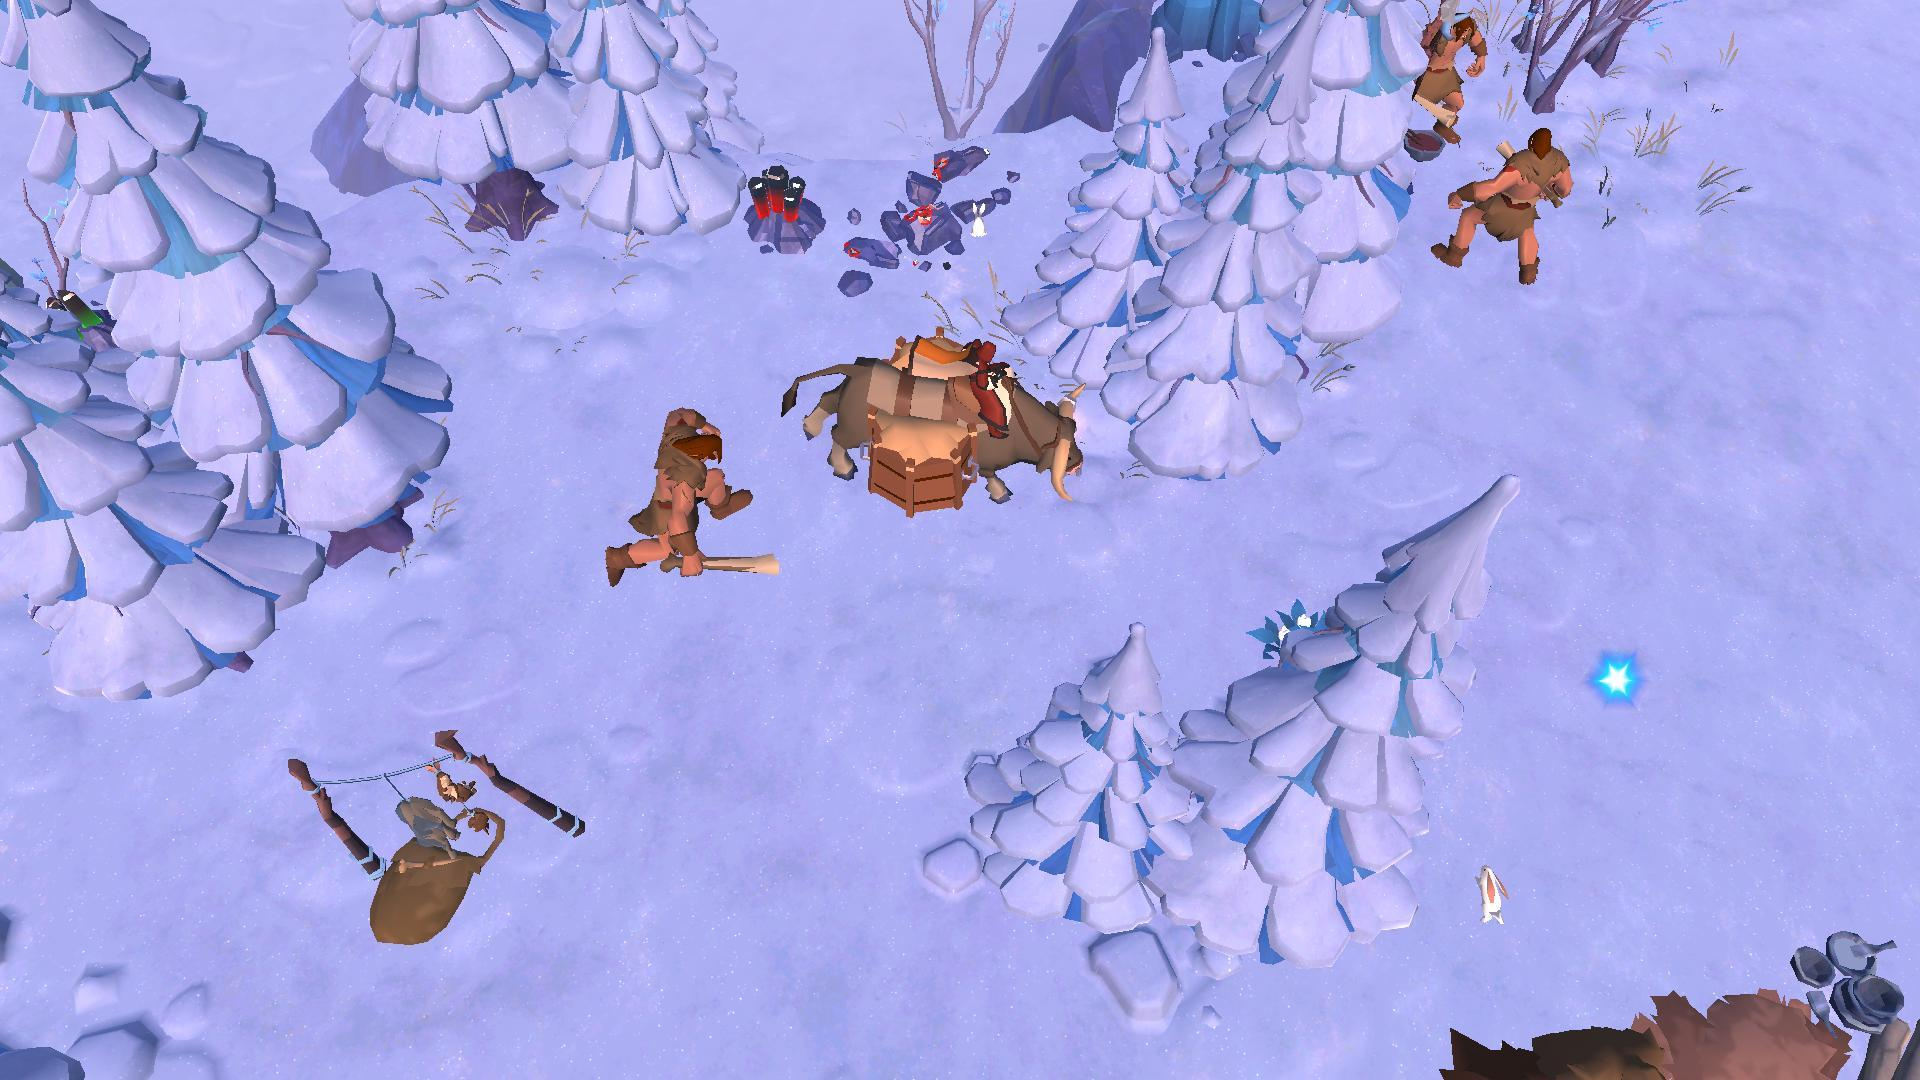enemy_factionKeeper: (605, 406, 765, 584), (1416, 125, 1571, 289), (1410, 0, 1493, 136)
fiber_t4: (1257, 600, 1324, 667)
ore_t5: (746, 165, 811, 227)
rock_t4: (1145, 0, 1284, 70)
